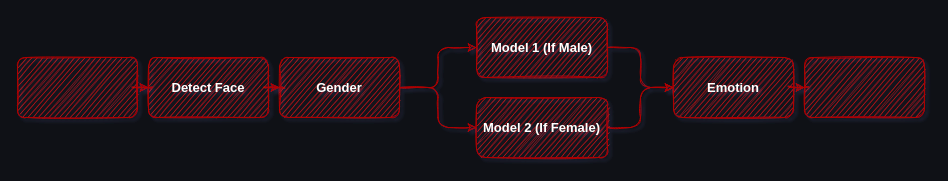
This 948x181 diagram has some shape labels left out. Each missing label, with the centre of its shape:
Display: (864,87)
Image: (77,87)
